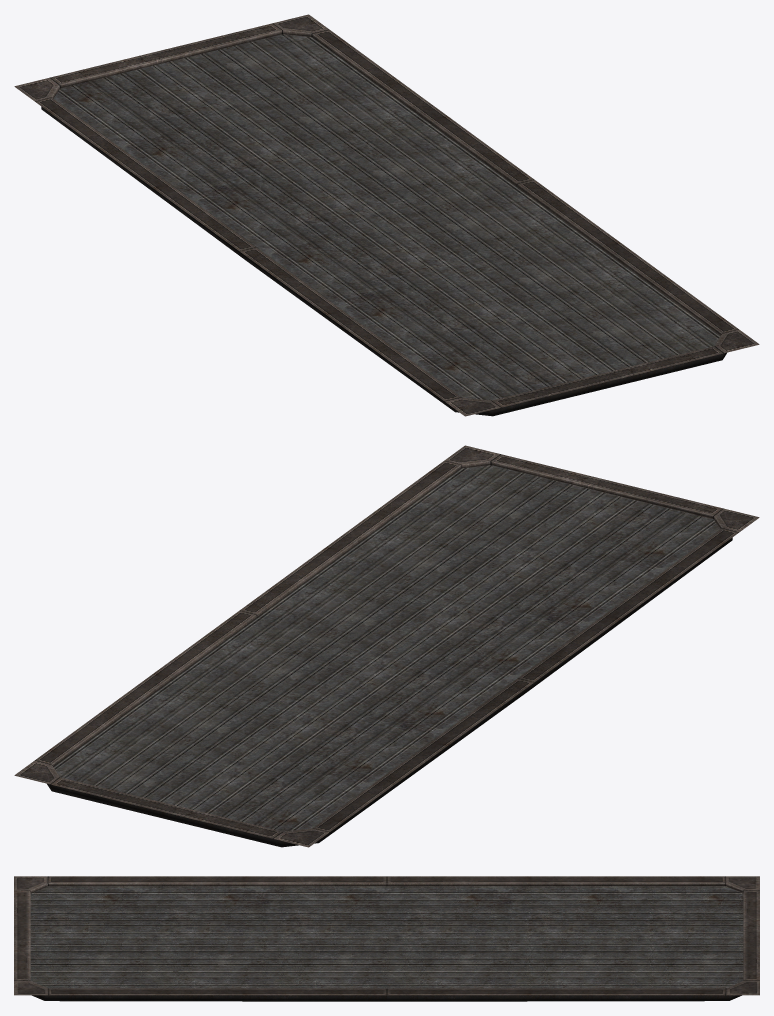
The model's file is 03_02_tunnel_window_shutter_closed.dae.
3 renders of one model, top to bottom at view 1: azimuth 30°, elevation 25°; view 2: azimuth 150°, elevation 25°; view 3: azimuth 270°, elevation 25°, orthographic. The views are drawn at different scales.
Parts seen in each view (by area): view 1: pPlane1, polySurface1; view 2: pPlane1, polySurface1; view 3: pPlane1, polySurface1.
Boxes of the visible parts, x1,y1,x2,y2 form: pPlane1: (53,34,720,400); polySurface1: (14,14,759,416); pPlane1: (53,465,720,831); polySurface1: (14,445,759,847); pPlane1: (30,886,743,988); polySurface1: (14,876,759,1001).
Bounding box in the file's own units: 2.2 × 0.1096 × 5.82.
